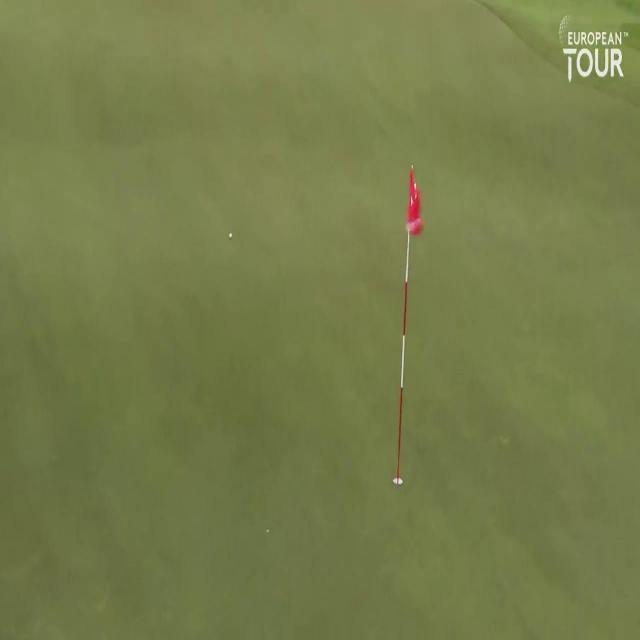GolfBall: (223, 225, 237, 242)
